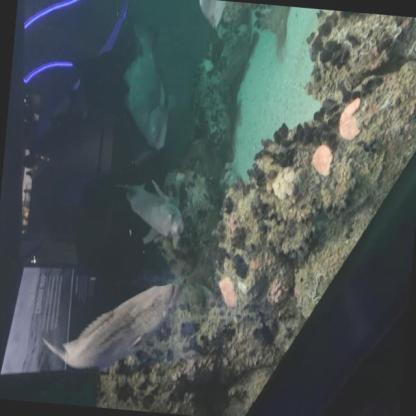fish: (39, 271, 181, 376), (116, 18, 181, 151), (109, 174, 189, 247), (190, 0, 234, 31)
